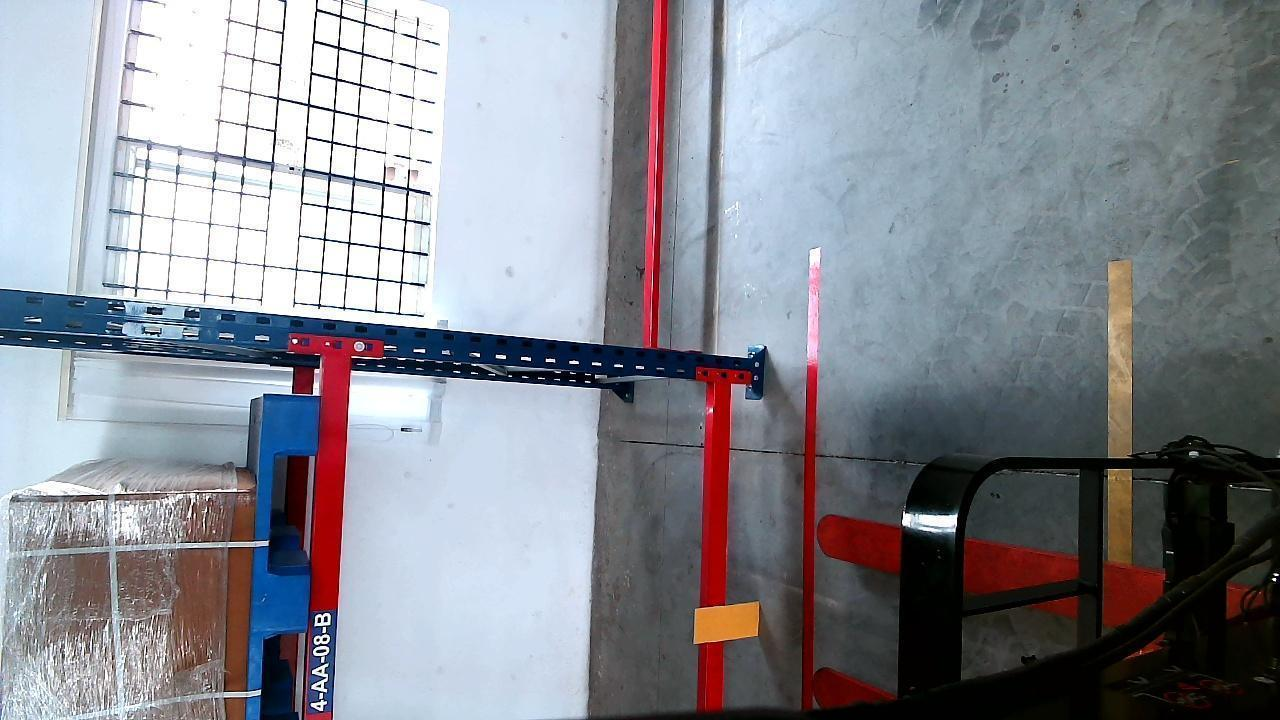red_line: (796, 248, 821, 711)
yellow_line: (1108, 250, 1134, 605)
